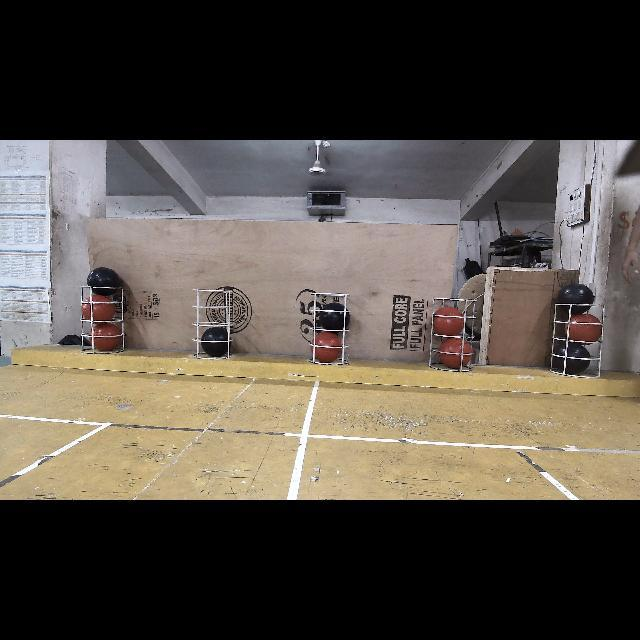P: (558, 282, 594, 315), (556, 344, 590, 374), (88, 268, 121, 296), (202, 327, 232, 357), (320, 302, 350, 332)
R: (438, 337, 472, 369), (566, 315, 602, 345), (81, 294, 115, 324), (432, 306, 463, 336), (311, 332, 341, 362), (89, 324, 121, 351)
S: (551, 304, 603, 381), (432, 296, 478, 374), (306, 291, 352, 365), (80, 284, 128, 354), (192, 288, 234, 360)
